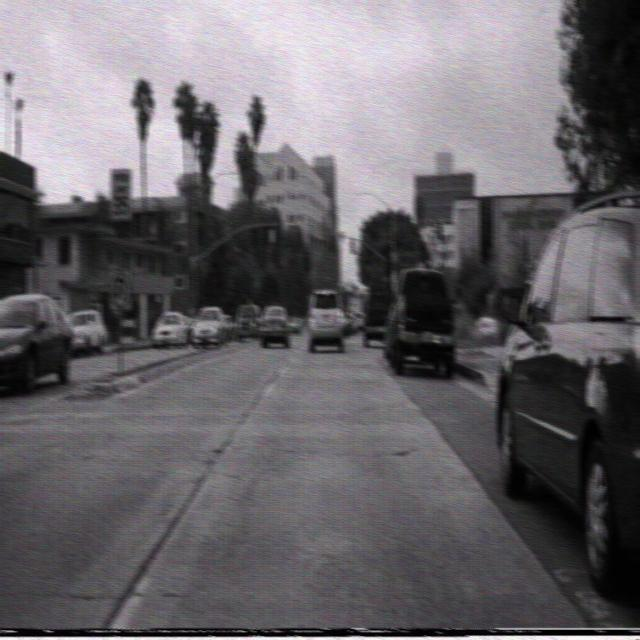speedLimit35: (109, 166, 132, 220)
